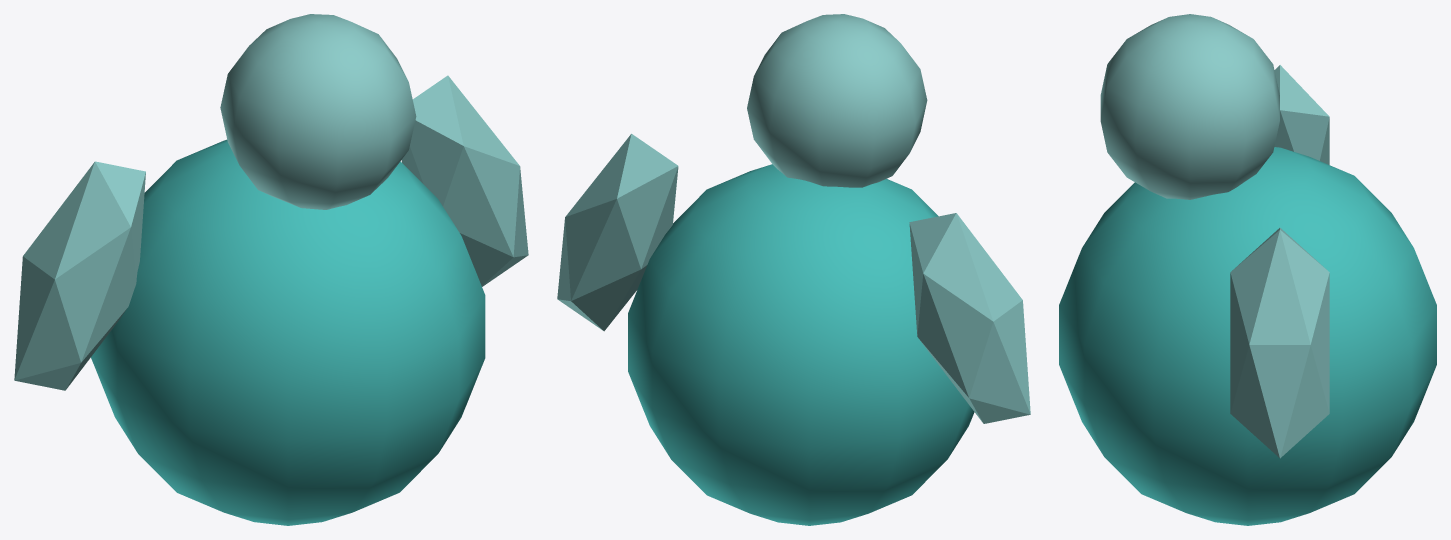
The model's file is crystal_monster_1.glb.
3 views of the same model, side by side, from view 1: azimuth 30°, elevation 25°; view 2: azimuth 150°, elevation 25°; view 3: azimuth 270°, elevation 25° (orthographic). The views are drawn at different scales.
Visible parts, largest first — view 1: CoreBody, Head, MOTIF_crystal_prism_-1, MOTIF_crystal_prism_1; view 2: CoreBody, Head, MOTIF_crystal_prism_-1, MOTIF_crystal_prism_1; view 3: CoreBody, Head, MOTIF_crystal_prism_1, MOTIF_crystal_prism_-1.
Boxes of the visible parts, x1=… form: CoreBody: x1=91, y1=139, x2=485, y2=525; Head: x1=220, y1=14, x2=416, y2=209; MOTIF_crystal_prism_-1: x1=14, y1=161, x2=145, y2=390; MOTIF_crystal_prism_1: x1=401, y1=75, x2=528, y2=286; CoreBody: x1=628, y1=164, x2=974, y2=525; Head: x1=747, y1=14, x2=927, y2=187; MOTIF_crystal_prism_-1: x1=909, y1=213, x2=1030, y2=423; MOTIF_crystal_prism_1: x1=557, y1=133, x2=678, y2=331; CoreBody: x1=1059, y1=147, x2=1436, y2=525; Head: x1=1100, y1=14, x2=1279, y2=199; MOTIF_crystal_prism_1: x1=1230, y1=228, x2=1329, y2=458; MOTIF_crystal_prism_-1: x1=1274, y1=65, x2=1329, y2=164.
Bounding box in the file's own units: 1.77 × 1.67 × 1.18.
